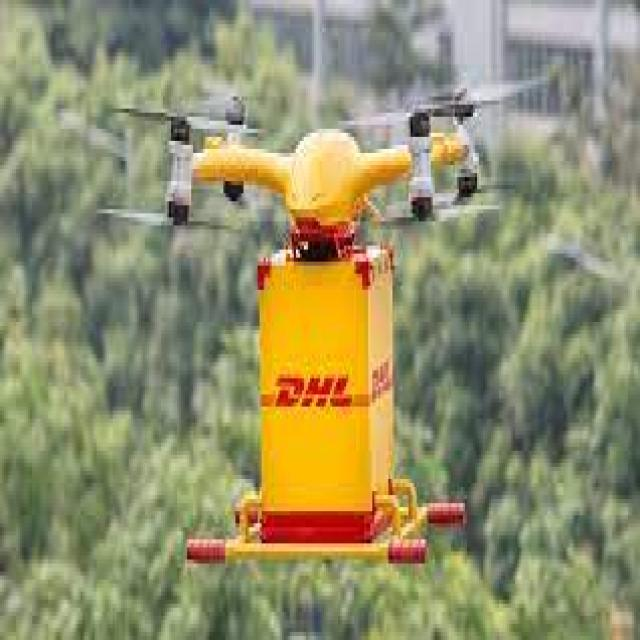drones: (90, 57, 561, 303)
